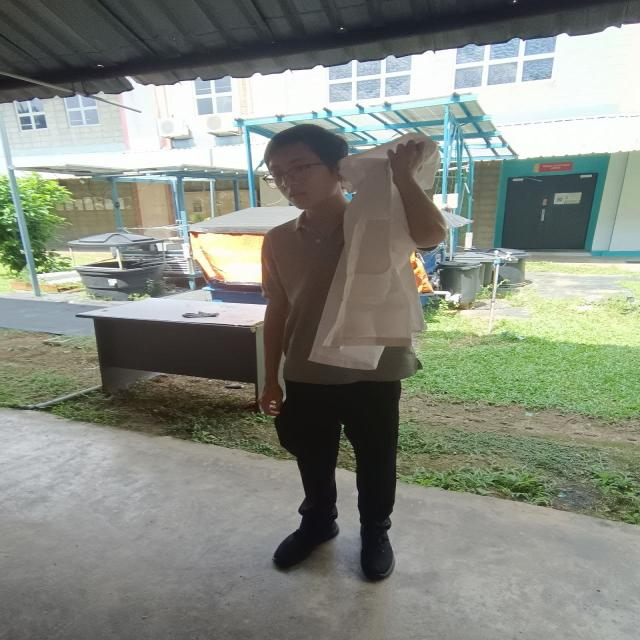person_without_labcoat: (260, 125, 445, 580)
